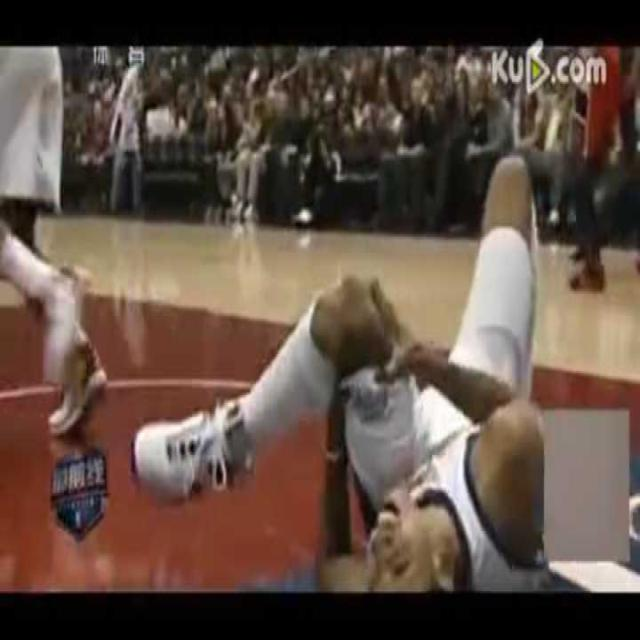10-: (0, 41, 639, 591)
down: (115, 138, 598, 590)
